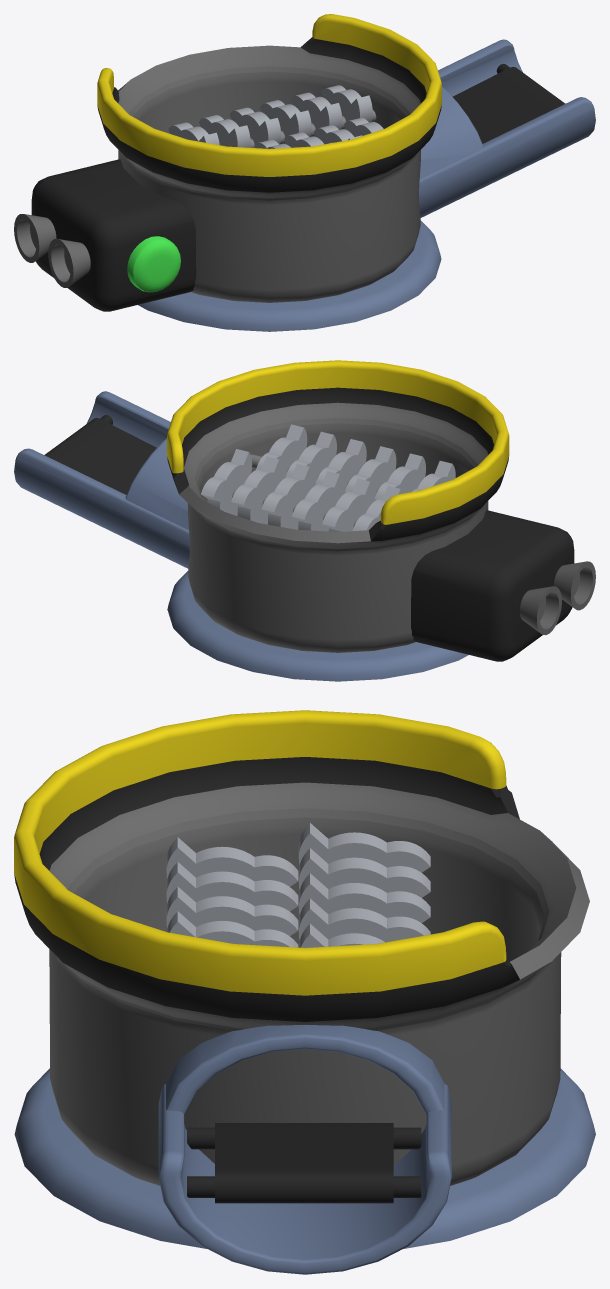
The model's file is ogutucu.fbx.
3 views of the same model, one above another, from view 1: azimuth 30°, elevation 25°; view 2: azimuth 150°, elevation 25°; view 3: azimuth 270°, elevation 25° (orthographic). The views are drawn at different scales.
Visible parts, largest first — view 1: govde.010, motor, uc, kesiciUc, palet.010, kesiciUc2; view 2: govde.010, motor, uc, kesiciUc, kesiciUc2, palet.010; view 3: govde.010, uc, palet.010, kesiciUc, kesiciUc2.
Boxes of the visible parts, <box> form: govde.010: <box>97,14,441,331</box>; motor: <box>14,159,196,311</box>; uc: <box>419,39,595,217</box>; kesiciUc: <box>168,85,372,147</box>; palet.010: <box>452,64,565,143</box>; kesiciUc2: <box>241,118,383,148</box>; govde.010: <box>167,360,509,681</box>; motor: <box>411,510,595,661</box>; uc: <box>14,391,189,568</box>; kesiciUc: <box>201,449,402,531</box>; kesiciUc2: <box>256,424,455,502</box>; palet.010: <box>44,415,156,494</box>; govde.010: <box>14,710,595,1248</box>; uc: <box>158,1024,451,1274</box>; palet.010: <box>187,1123,421,1203</box>; kesiciUc: <box>298,823,430,947</box>; kesiciUc2: <box>166,837,298,947</box>.
Bounding box in the file's own units: 1175 × 386 × 671.
